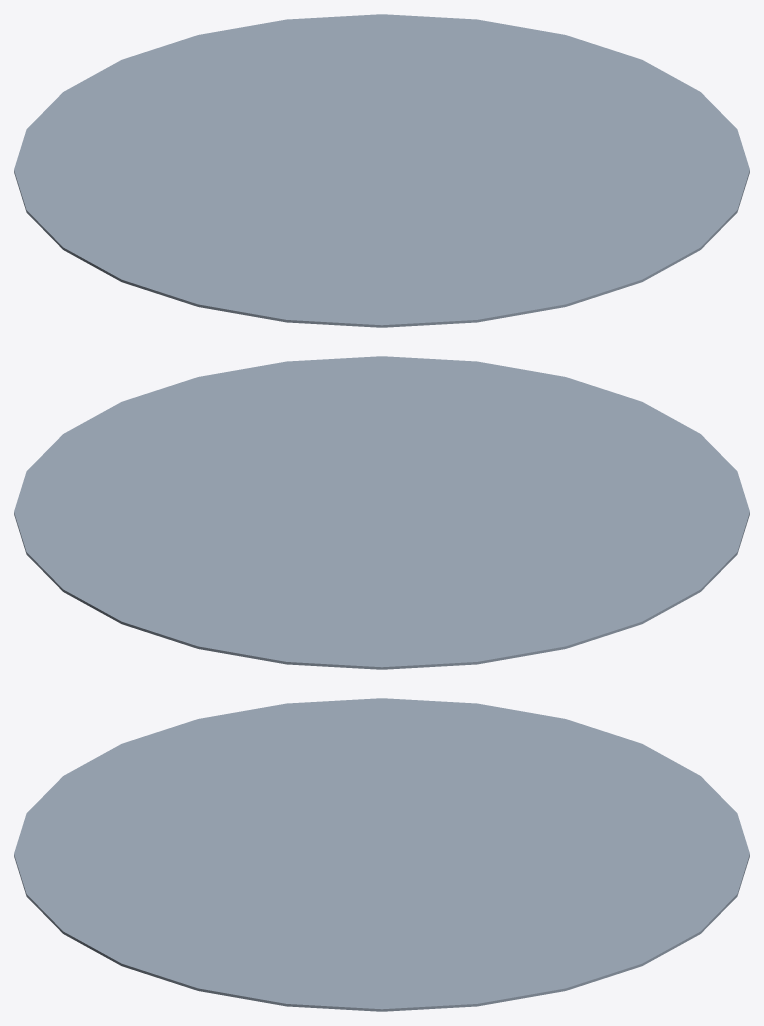
File: disk.obj
The picture shows the model from 3 angles, top to bottom: view 1: azimuth 30°, elevation 25°; view 2: azimuth 150°, elevation 25°; view 3: azimuth 270°, elevation 25°; orthographic projection.
Parts seen in each view (by area): view 1: 1; view 2: 1; view 3: 1.
Part boxes in pixels (x1,y1,x2,y2): 1: (14, 14, 749, 327); 1: (14, 356, 749, 669); 1: (14, 698, 749, 1011).
Bounding box in the file's own units: 259 × 1 × 259.
